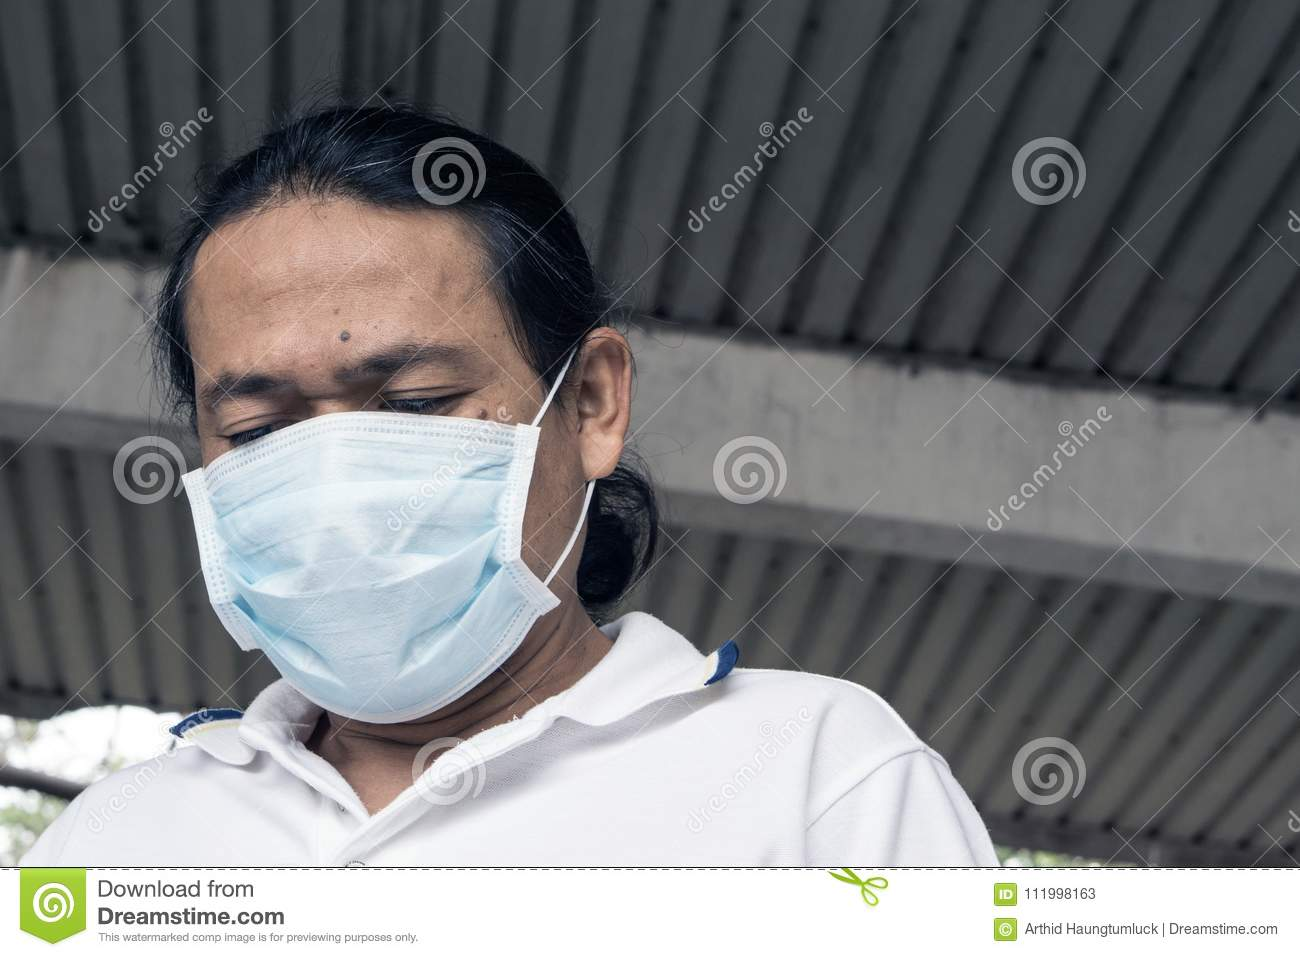mask: (177, 413, 557, 714)
